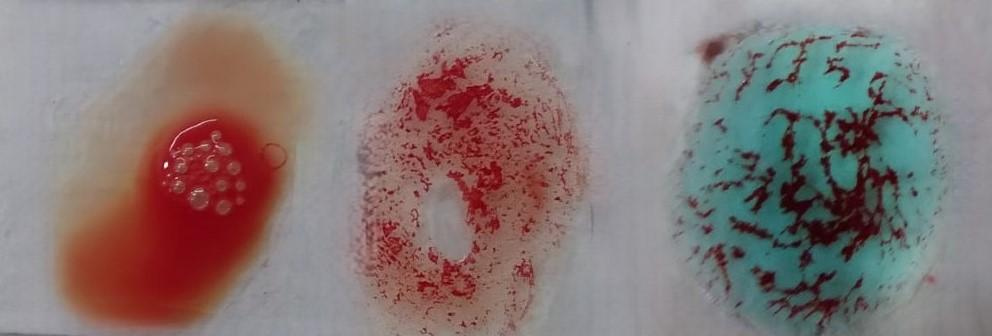A: (672, 32, 943, 334)
D: (352, 37, 576, 336)
